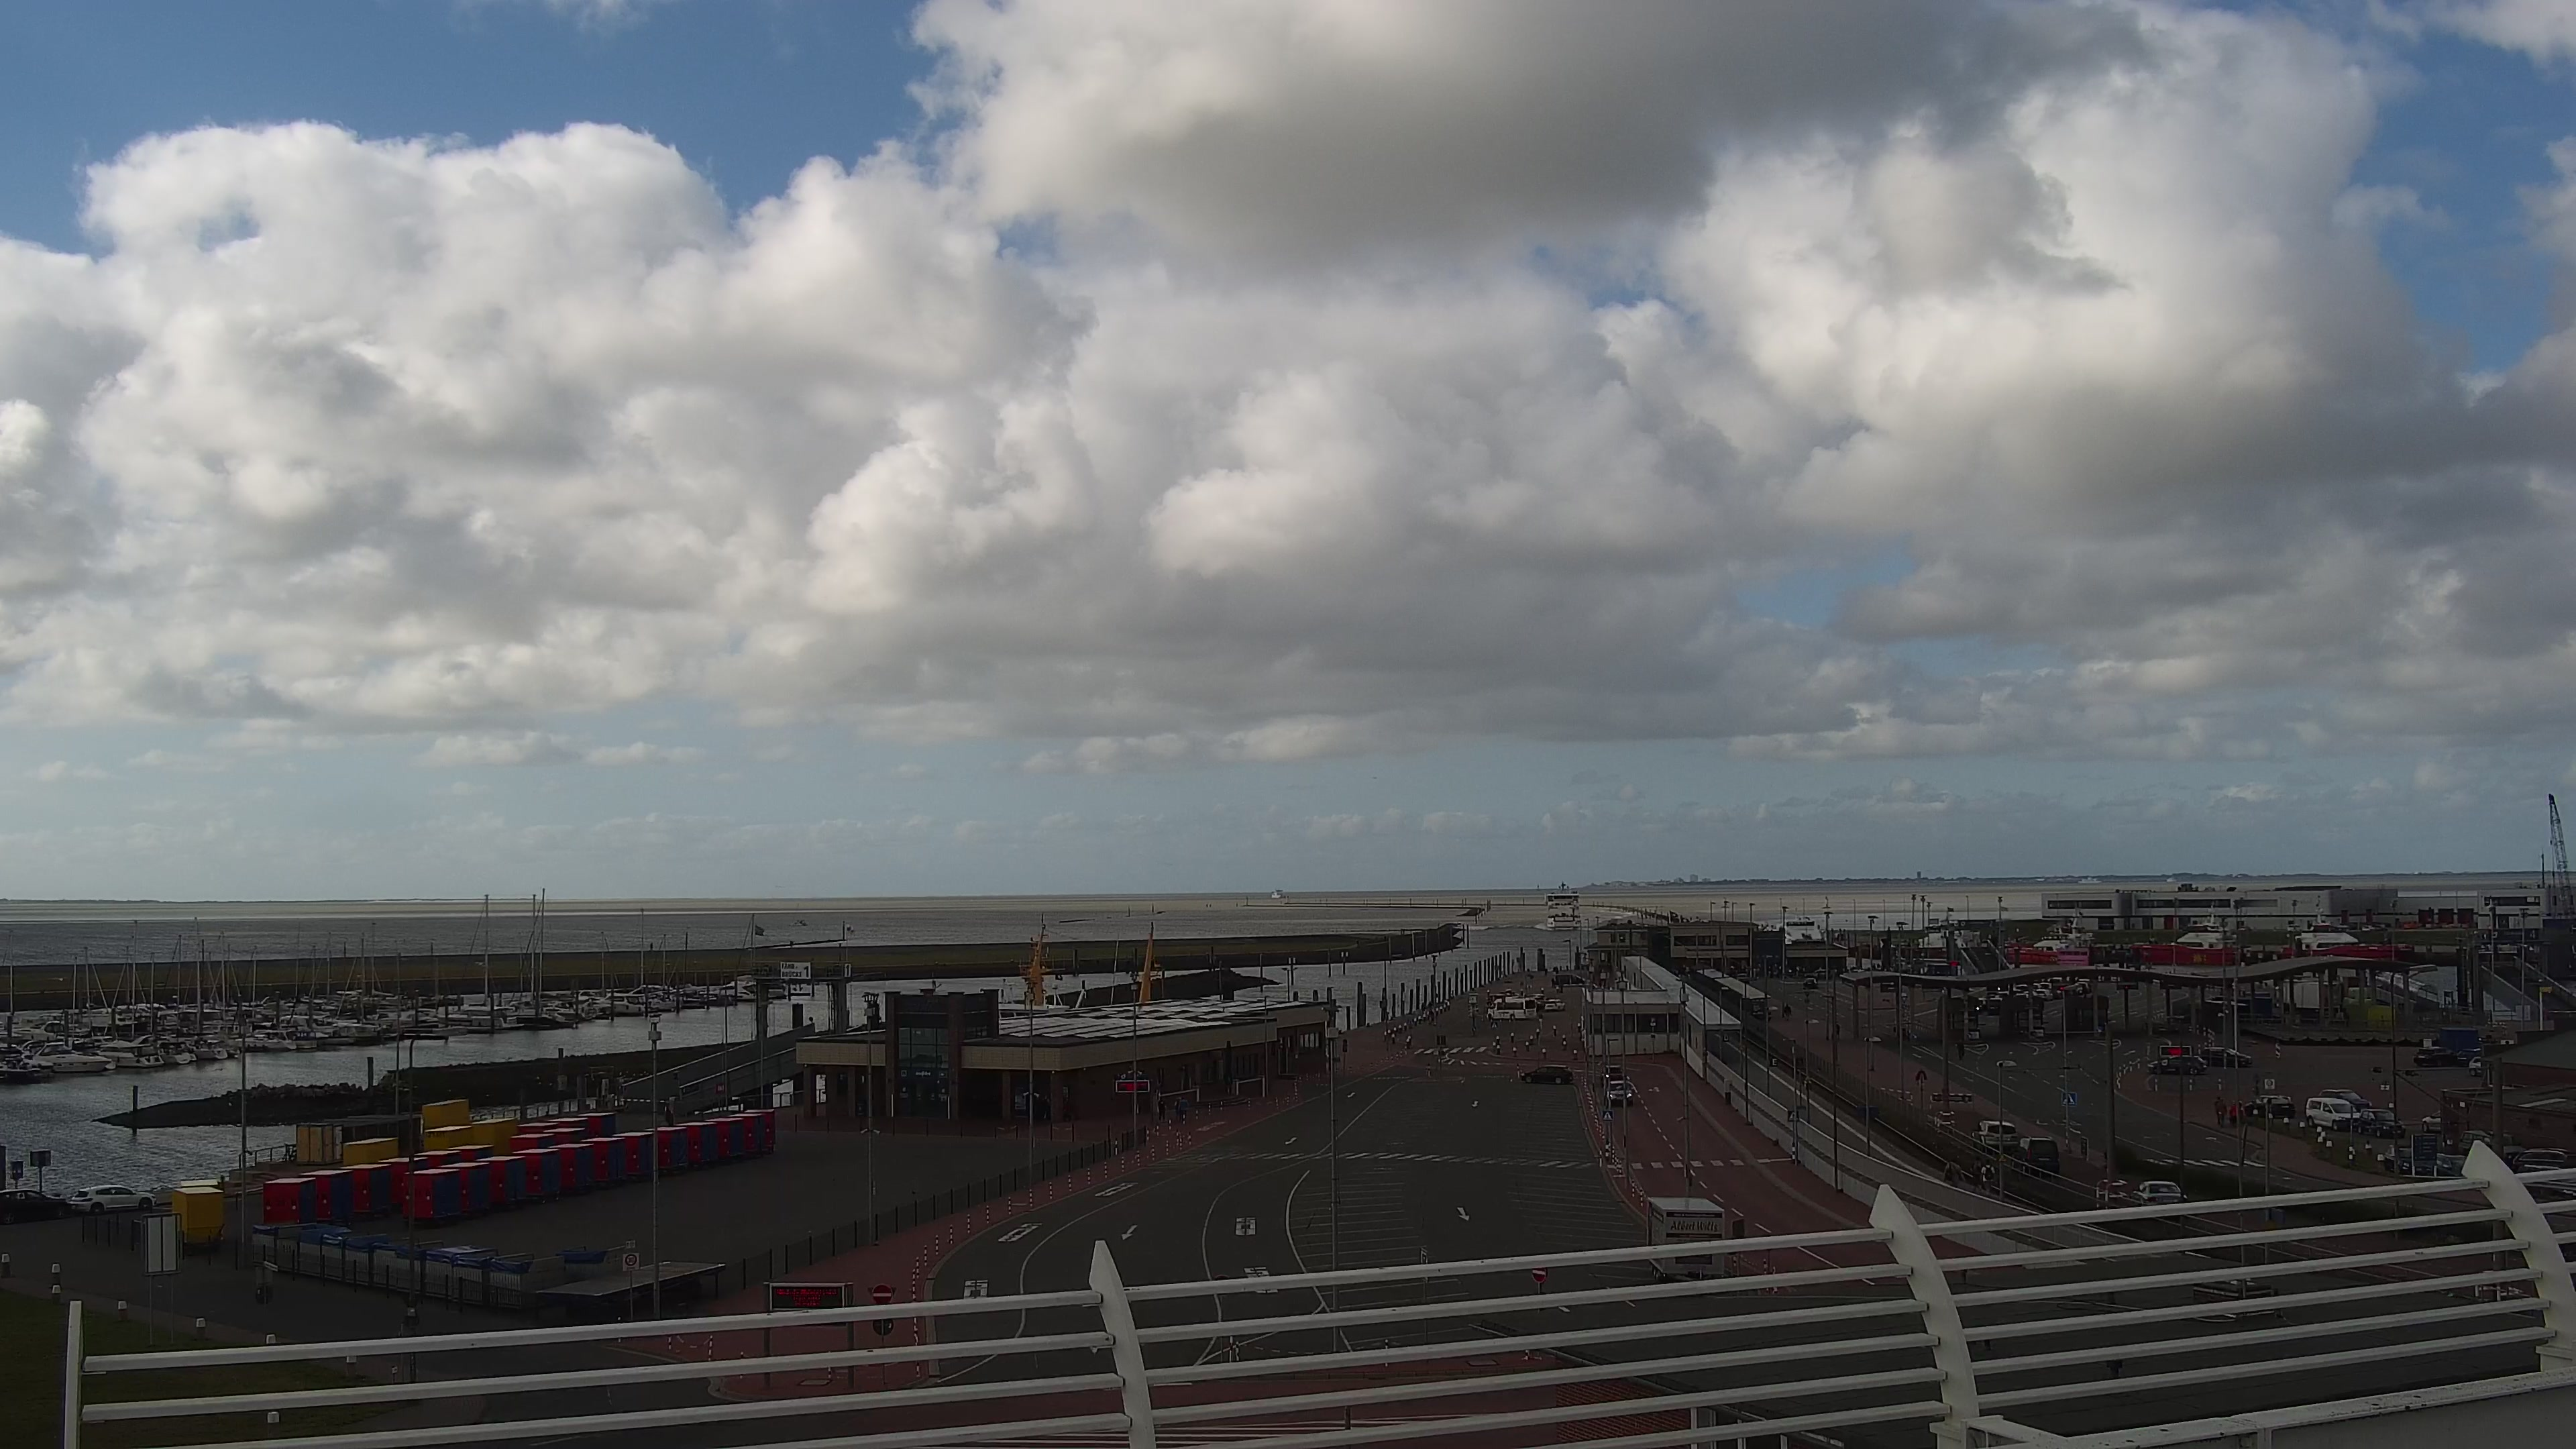human: (1981, 1159, 1996, 1199), (1969, 1157, 1982, 1195), (2216, 1097, 2226, 1126), (1178, 1097, 1189, 1124), (2229, 1099, 2237, 1128), (2213, 1095, 2222, 1123), (1157, 1097, 1167, 1123), (1224, 1074, 1233, 1096), (1956, 1038, 1965, 1061), (1174, 1096, 1183, 1124), (1783, 1003, 1791, 1022), (1509, 1010, 1516, 1026), (1834, 1021, 1840, 1042), (648, 941, 654, 953), (1550, 977, 1555, 989)
land: (68, 1183, 155, 1216), (2457, 1129, 2526, 1167), (1, 1188, 67, 1224), (2012, 1134, 2061, 1179), (2304, 1096, 2359, 1130), (2511, 1145, 2576, 1172), (1970, 1119, 2019, 1152), (2128, 1179, 2188, 1206), (2383, 1144, 2428, 1176), (2358, 1108, 2406, 1138), (2317, 1087, 2372, 1111), (2146, 1054, 2208, 1075), (2243, 1095, 2296, 1118), (1485, 997, 1536, 1020), (1519, 1063, 1572, 1084), (2202, 1046, 2253, 1067), (2413, 1046, 2458, 1067), (2432, 1152, 2468, 1177), (1603, 1079, 1631, 1106), (1600, 1063, 1624, 1089), (2456, 1046, 2481, 1068), (2422, 1110, 2443, 1132), (1553, 973, 1585, 987), (2466, 1055, 2482, 1077), (1988, 998, 2003, 1016), (1544, 999, 1566, 1012), (2034, 989, 2054, 1002), (2021, 989, 2041, 1000), (2072, 981, 2089, 995), (1988, 991, 2010, 1000), (1803, 977, 1817, 990), (1525, 993, 1546, 1001), (1804, 969, 1827, 979), (1736, 972, 1750, 984), (1974, 997, 1989, 1008), (2038, 982, 2053, 990), (2012, 991, 2028, 1000), (2015, 983, 2030, 990)
sea: (504, 886, 576, 1029), (439, 894, 506, 1013), (2275, 906, 2414, 961), (2128, 904, 2244, 965), (2003, 912, 2104, 966), (712, 914, 759, 990), (580, 930, 628, 1004), (663, 932, 705, 1008), (19, 1040, 111, 1071), (645, 933, 677, 1012), (433, 1004, 525, 1029), (91, 1040, 164, 1067), (1545, 881, 1582, 930), (127, 1034, 188, 1063), (1779, 905, 1822, 944), (590, 991, 645, 1015), (234, 1027, 297, 1050), (12, 1019, 65, 1040), (180, 1037, 227, 1059), (1, 1059, 40, 1083), (334, 1023, 382, 1042), (712, 979, 757, 1000), (545, 996, 590, 1014), (319, 1028, 355, 1045), (291, 1030, 320, 1049), (788, 902, 807, 926), (1270, 888, 1285, 899)
